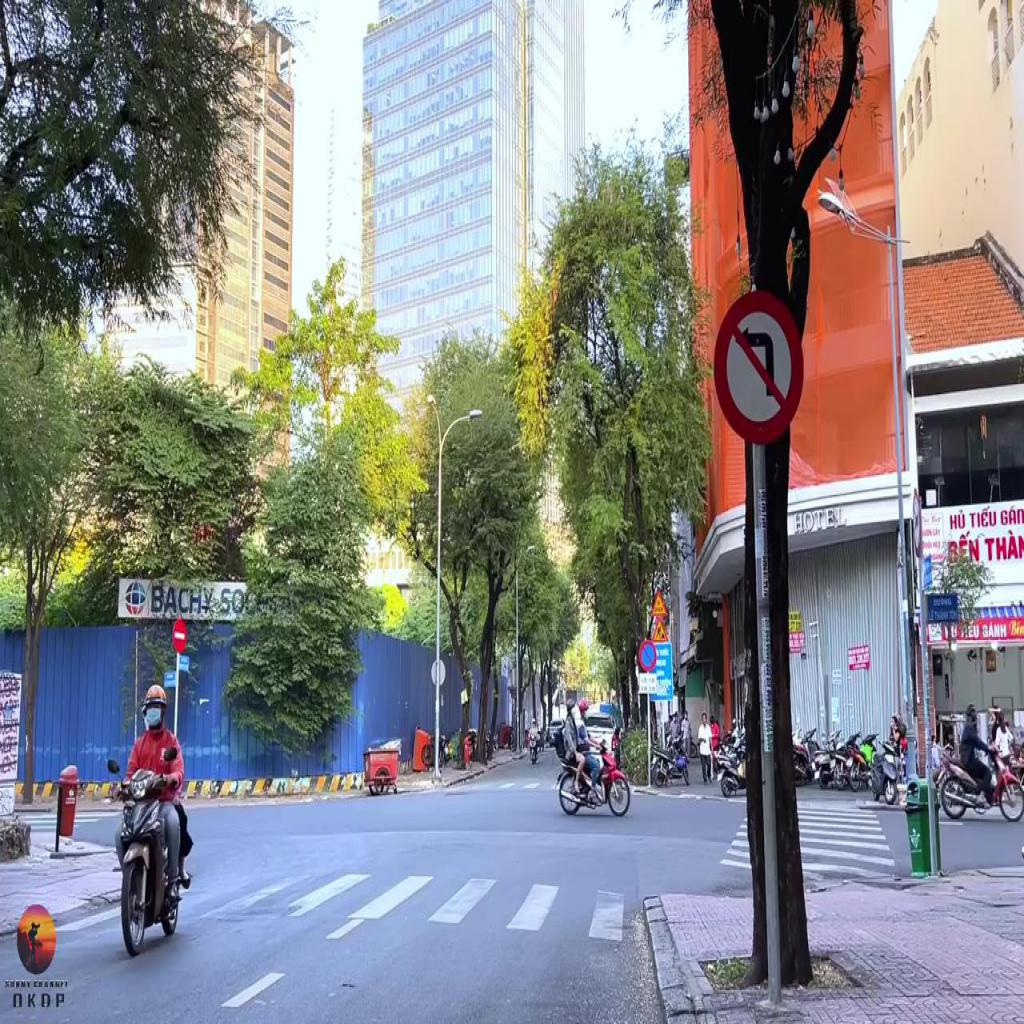cam_do_xe: (638, 640, 657, 673)
cam_re_trai: (713, 290, 805, 447)
cam_xe_di_nguoc_chieu: (172, 618, 186, 652)
cong_truong: (652, 616, 670, 641)
di_cham: (651, 589, 669, 617)
